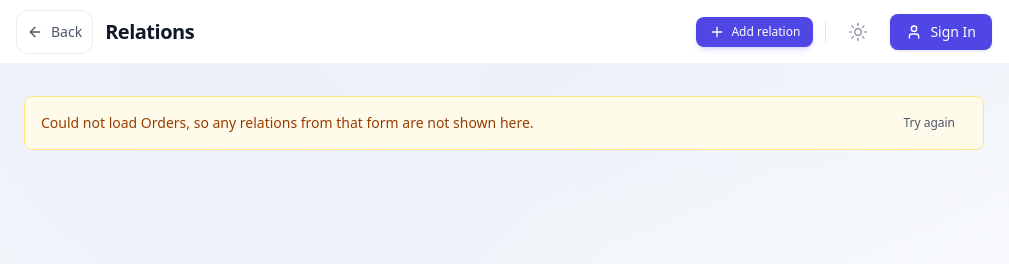
Scenario: the relations list › says which form it could not read, instead of leaving its relations out
Expected: the message shows "Could not load Orders", [24, 96, 984, 150]
Click the button "Try again" at (929, 123), box [891, 109, 967, 137]
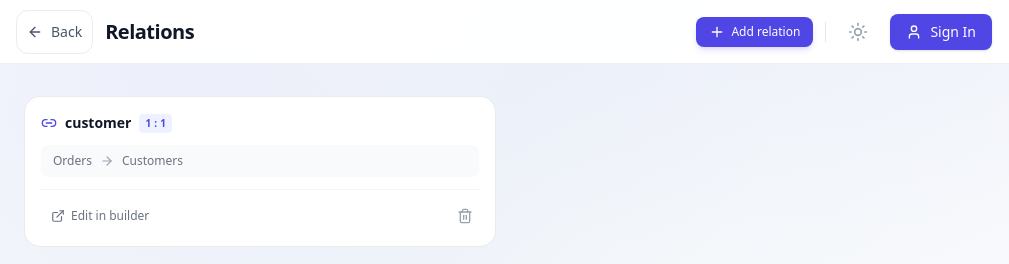
Expected: the message is gone
Expected: the text "customer" is shown, [65, 113, 132, 133]
